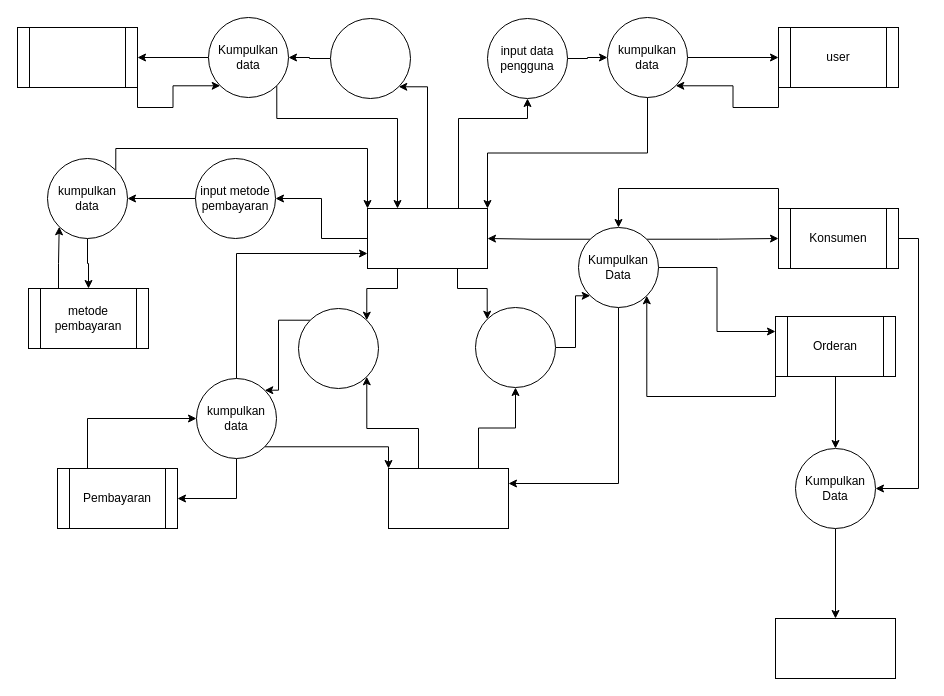
Some shapes in this 944 by 696 pixel diagram are drawn without their labels. Here are the shapes that lost their labels. From the top down, the centre of each, then its label:
point 77,57: Layanan
point 370,58: Input data layanan
point 427,238: Admin
point 338,348: Input data pembayaran
point 515,347: input data transaksi
point 448,498: Petugas
point 835,648: Pimpinan
